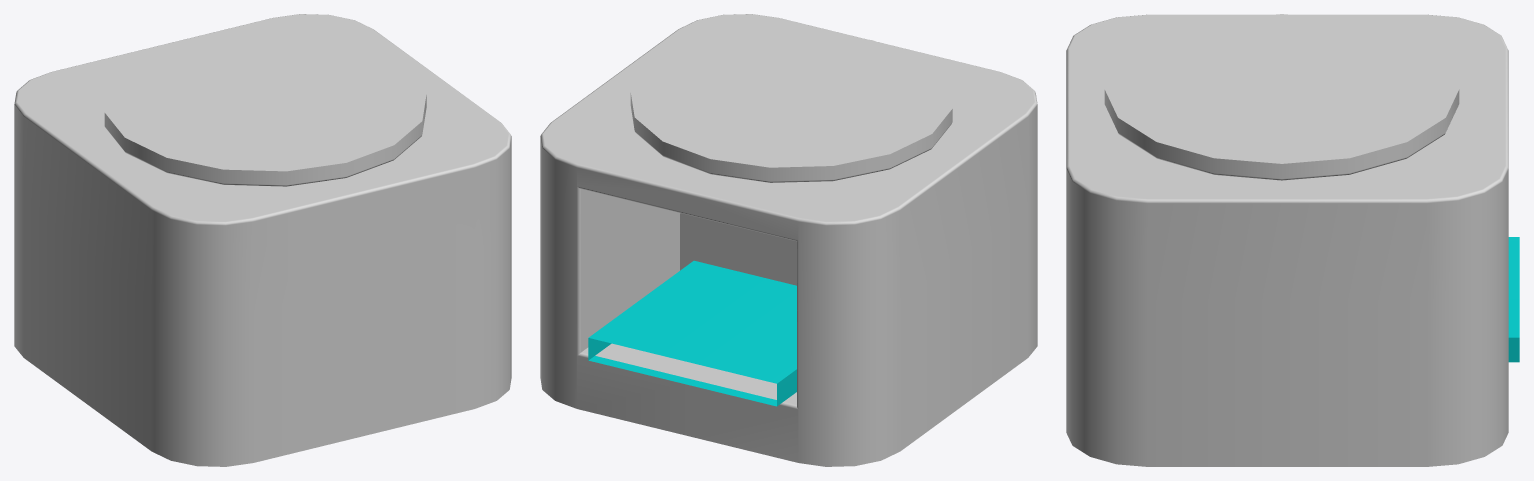
Rendered from SandboxItemProducerDefaultInternalVariant.gltf.
3 views of the same model, side by side, from view 1: azimuth 30°, elevation 25°; view 2: azimuth 150°, elevation 25°; view 3: azimuth 270°, elevation 25° (orthographic). The views are drawn at different scales.
Parts seen in each view (by area): view 1: SandboxItemProducer; view 2: SandboxItemProducer; view 3: SandboxItemProducer.
Boxes of the visible parts, x1,y1,x2,y2 form: SandboxItemProducer: (14,14,511,466); SandboxItemProducer: (540,14,1037,466); SandboxItemProducer: (1066,14,1519,466).
Size of the model in its own units: 0.9303 by 0.66 by 0.9536.
